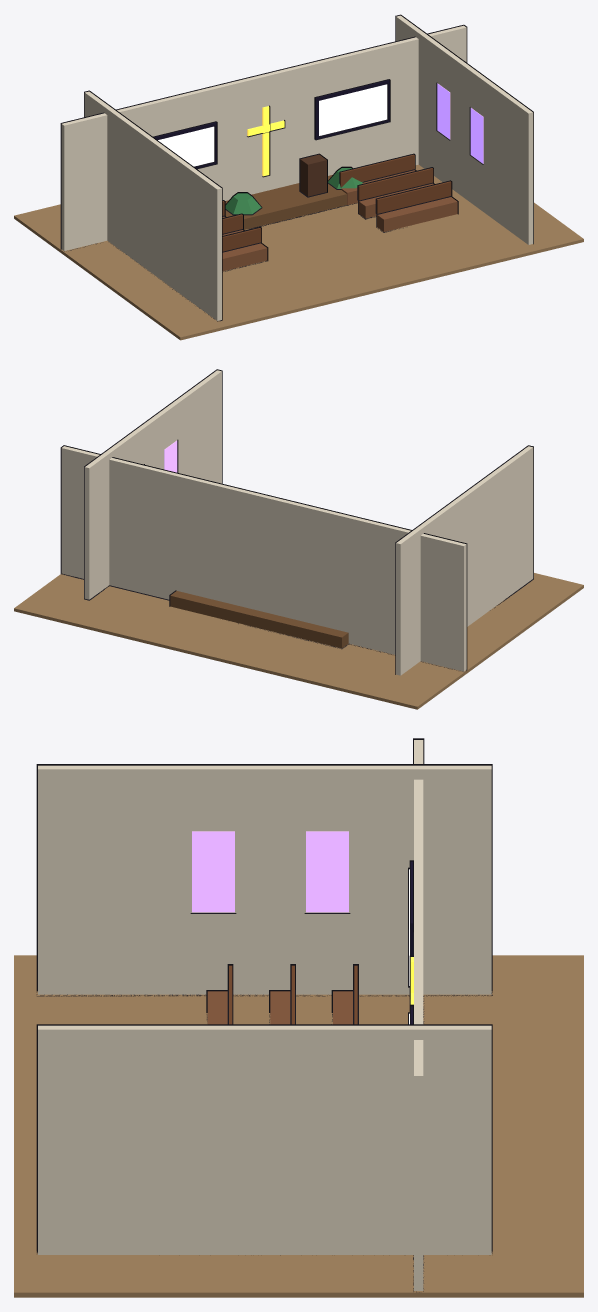
Rendered from cut-church.glb.
3 views of the same model, one above another, from view 1: azimuth 30°, elevation 25°; view 2: azimuth 150°, elevation 25°; view 3: azimuth 270°, elevation 25° (orthographic). The views are drawn at different scales.
Parts seen in each view (by area): view 1: Cube.147, Cube.148, Cube.169, Cube.172, Cube.149, Cube.155, Cube.159, Cube.153, Cube.160, Cube.164, Cube.168, Cube.156 (+9 smaller); view 2: Cube.148, Cube.147, Cube.169, Cube.172, Cube.149; view 3: Cube.172, Cube.169, Cube.147, Cube.148, Cube.170, Cube.171, Cube.161, Cube.157, Cube.165.
Boxes of the visible parts, left/top/right/bottom form: Cube.147: left=14, top=164, right=583, bottom=340; Cube.148: left=60, top=24, right=467, bottom=251; Cube.169: left=84, top=90, right=222, bottom=321; Cube.172: left=395, top=14, right=533, bottom=244; Cube.149: left=225, top=175, right=357, bottom=230; Cube.155: left=318, top=83, right=388, bottom=136; Cube.159: left=376, top=196, right=458, bottom=232; Cube.153: left=158, top=126, right=215, bottom=167; Cube.160: left=375, top=180, right=452, bottom=214; Cube.164: left=357, top=167, right=433, bottom=201; Cube.168: left=339, top=153, right=415, bottom=187; Cube.156: left=299, top=153, right=327, bottom=197; Cube.148: left=60, top=445, right=467, bottom=671; Cube.147: left=14, top=573, right=583, bottom=709; Cube.169: left=395, top=445, right=533, bottom=675; Cube.172: left=84, top=369, right=222, bottom=600; Cube.149: left=169, top=590, right=349, bottom=649; Cube.172: left=36, top=1024, right=492, bottom=1255; Cube.169: left=36, top=764, right=492, bottom=996; Cube.147: left=14, top=955, right=583, bottom=1297; Cube.148: left=413, top=738, right=424, bottom=1292; Cube.170: left=190, top=831, right=236, bottom=913; Cube.171: left=304, top=831, right=350, bottom=913; Cube.161: left=269, top=990, right=290, bottom=1024; Cube.157: left=206, top=990, right=227, bottom=1024; Cube.165: left=331, top=990, right=352, bottom=1024.
Bounding box in the file's own units: 14 × 4.5 × 10.
